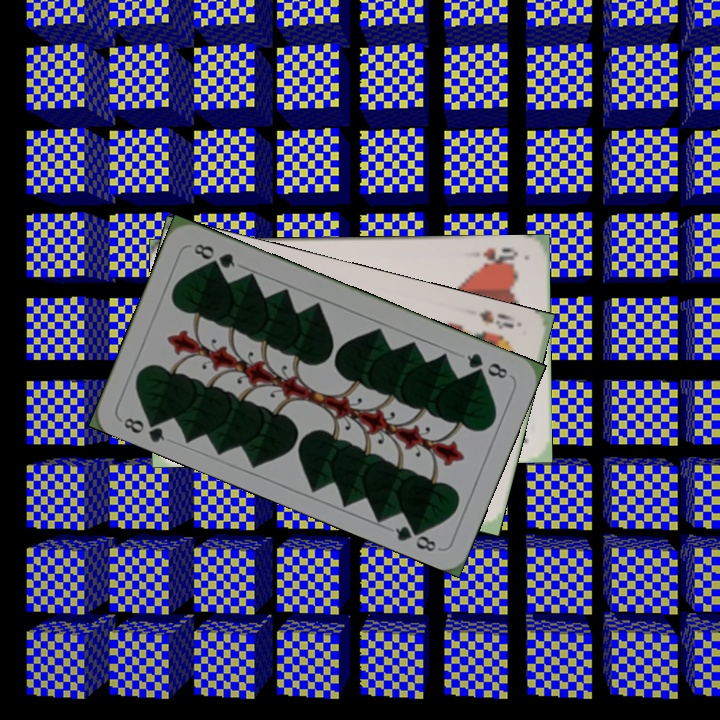G8: (119, 411, 168, 445), (462, 349, 511, 382)
HO: (473, 244, 520, 269)
S8: (476, 306, 517, 333)
